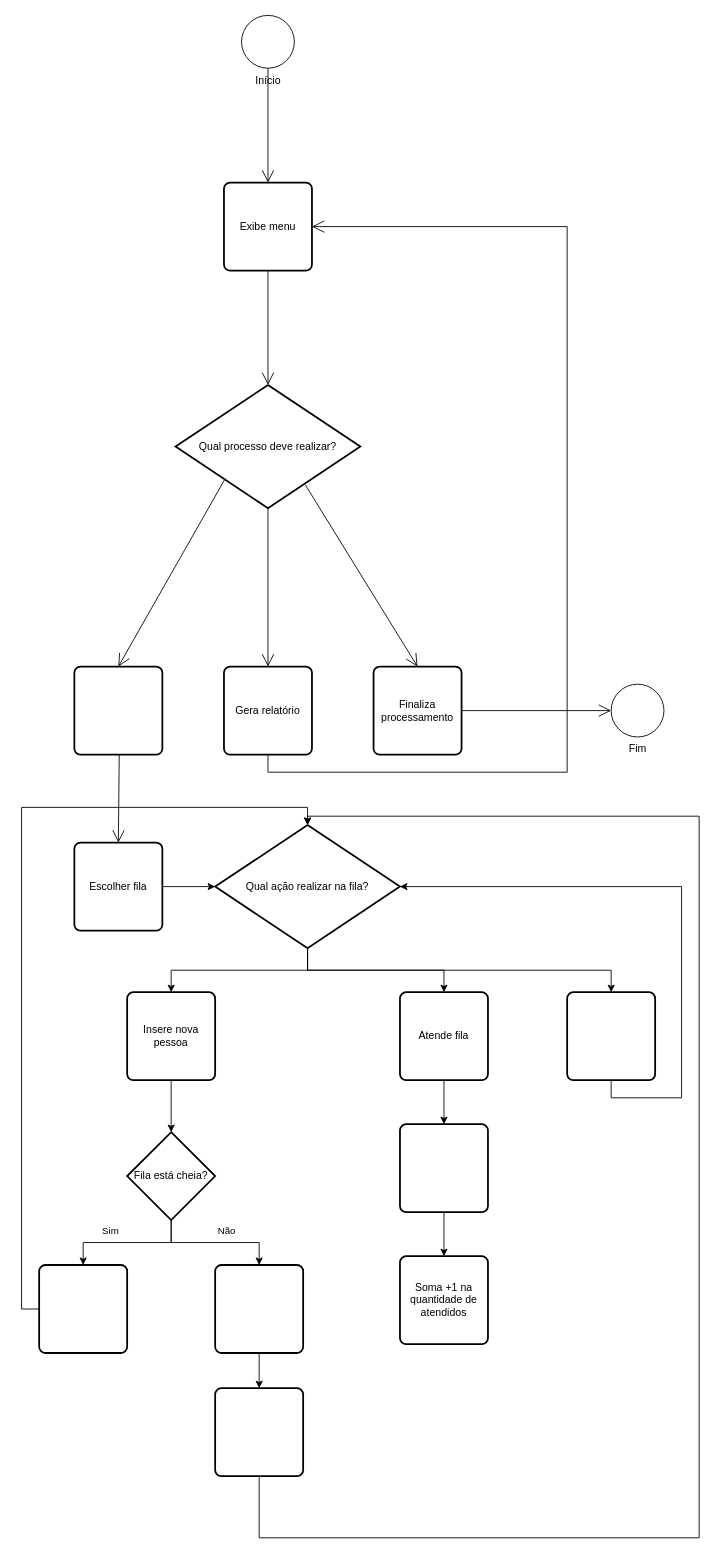
This 722x1560 diagram has some shape labels left out. Each missing label, with the centre of its shape:
"Adiciona nova pessoa na fila" goes at (x=259, y=1308).
"Atualiza fila" goes at (x=118, y=710).
"Listar todos os clientes" goes at (x=611, y=1036).
"Remove um da fila" goes at (x=443, y=1168).
"Soma +1 na quantidade de entrantes" goes at (x=259, y=1432).
"Soma +1 pra quantidade de rejeitados" goes at (x=83, y=1308).
